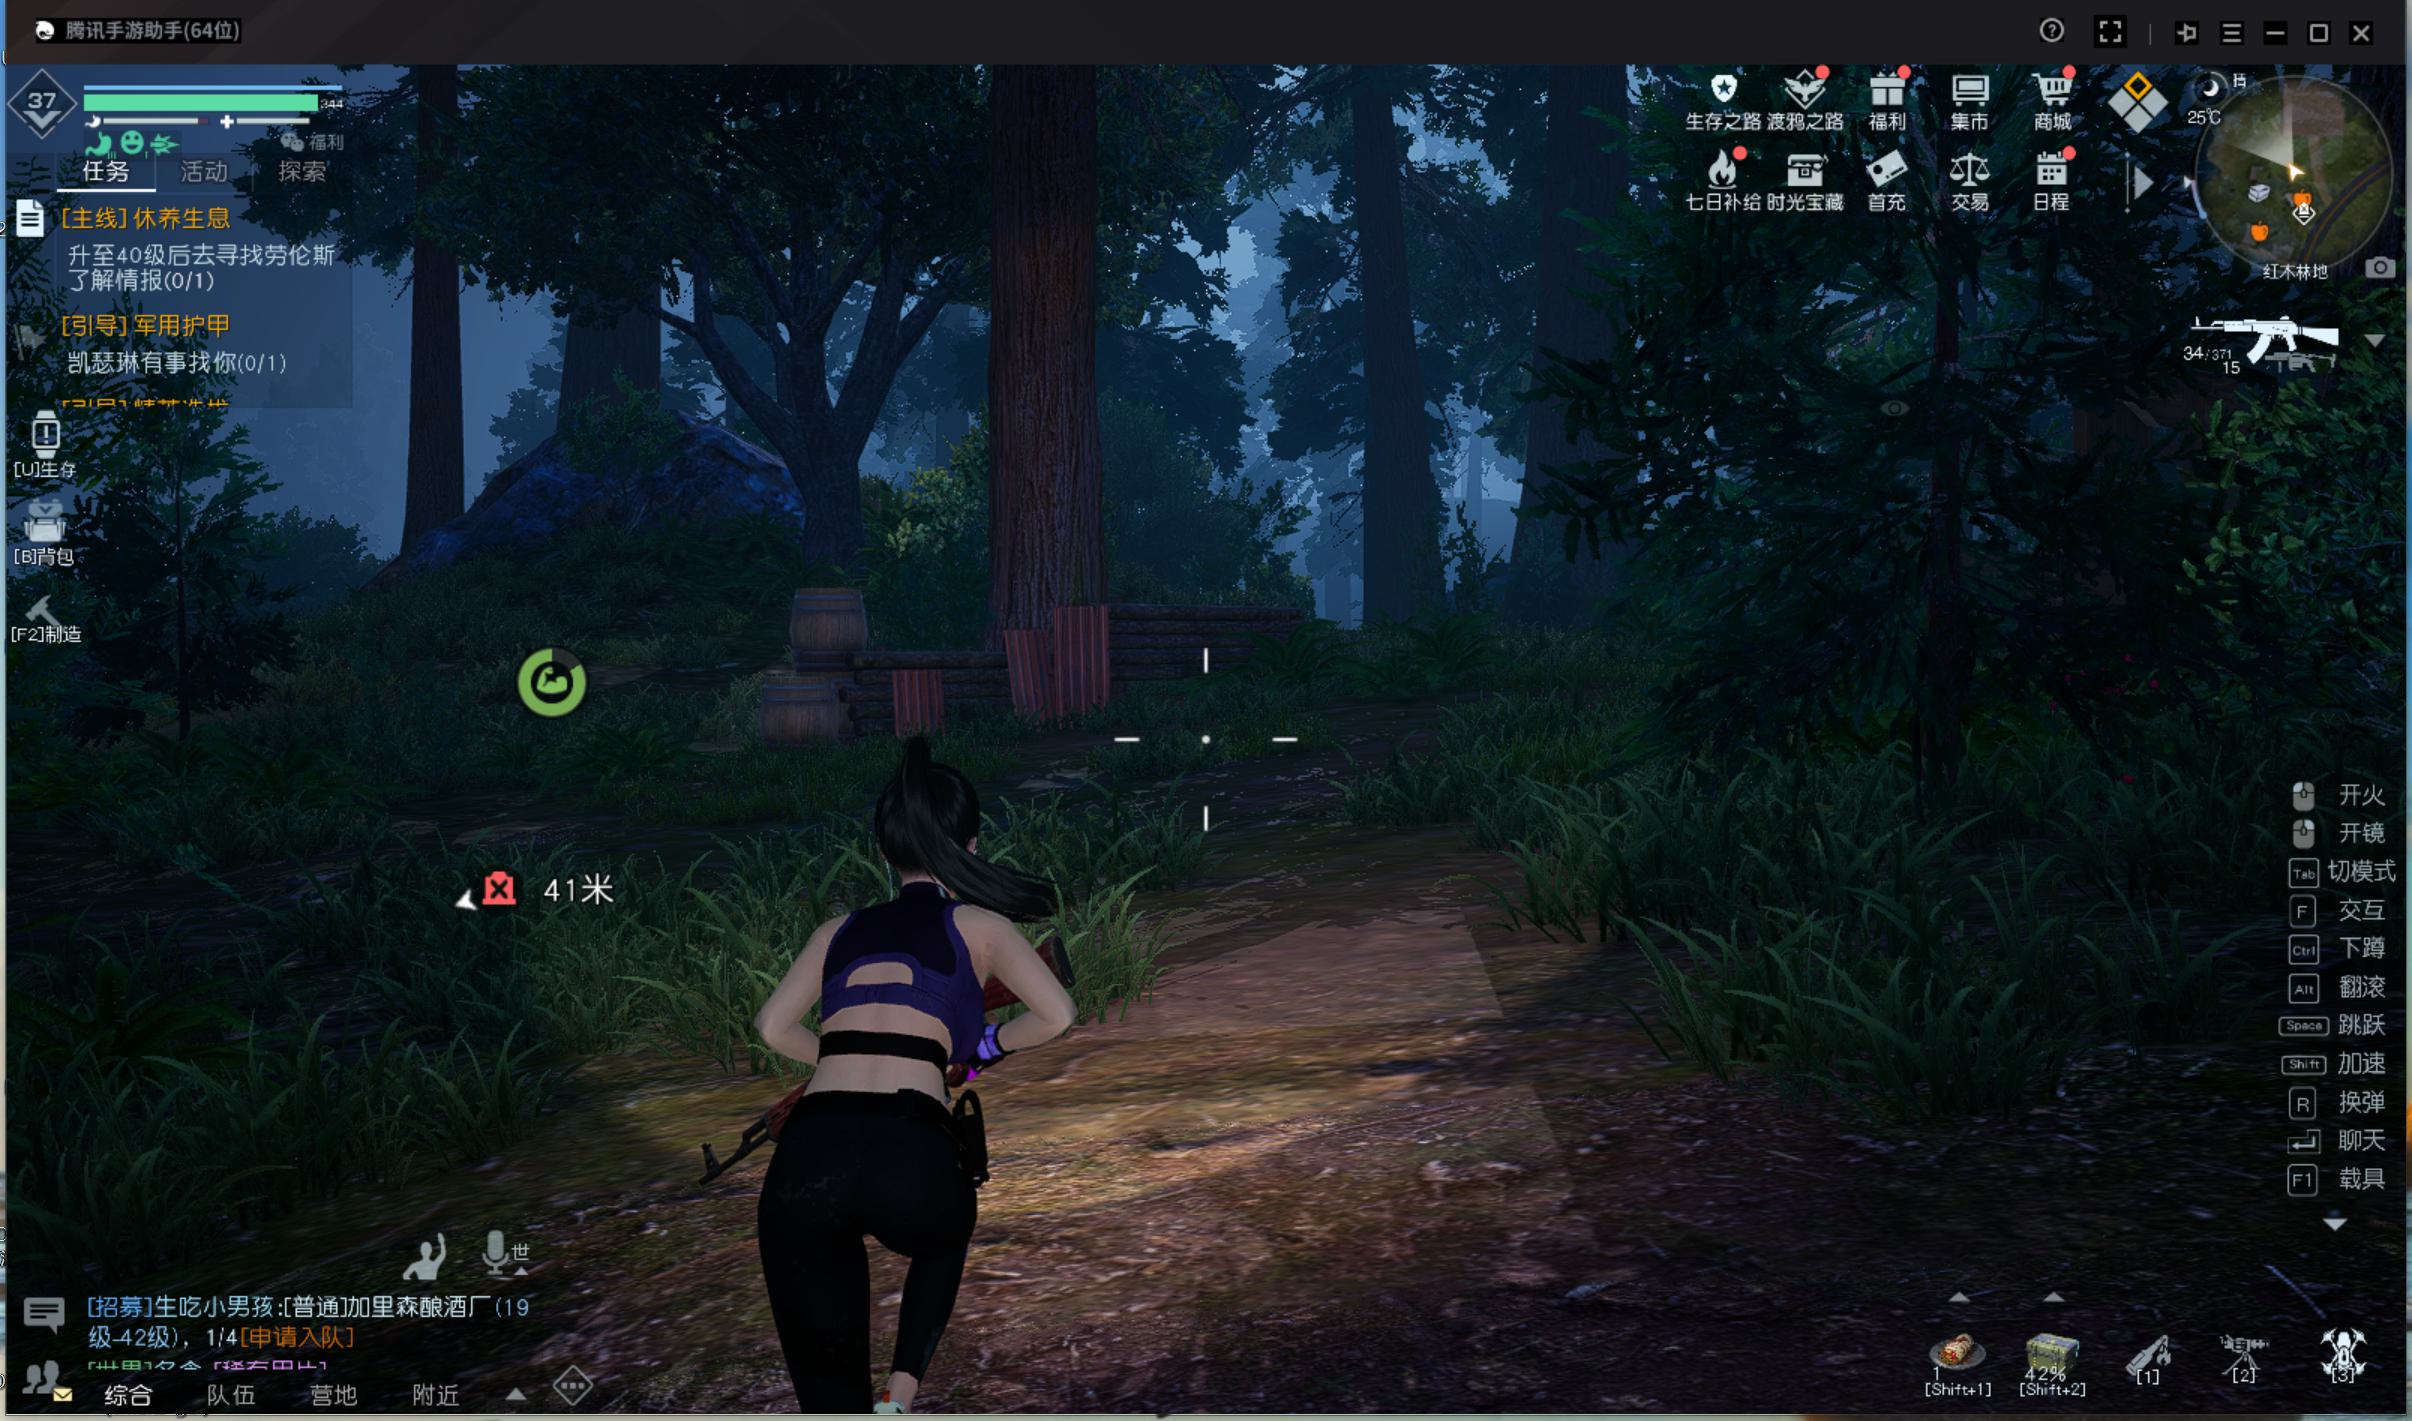tree: (978, 294, 1125, 697), (1516, 232, 1653, 651), (1348, 215, 1444, 680), (392, 249, 484, 573)
